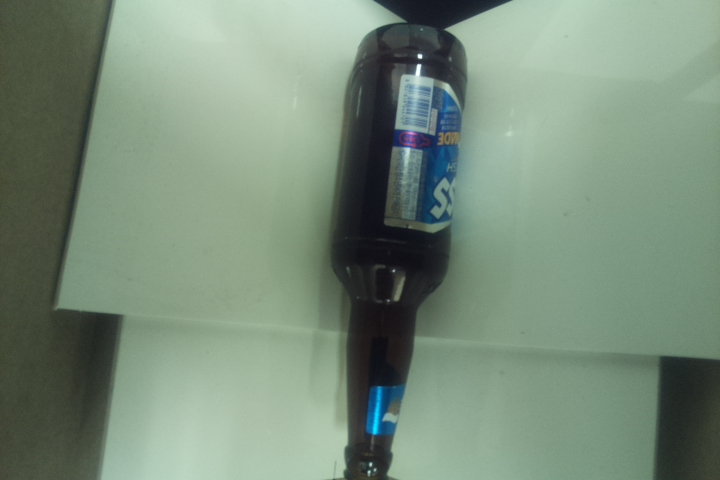makju: (321, 14, 466, 480)
